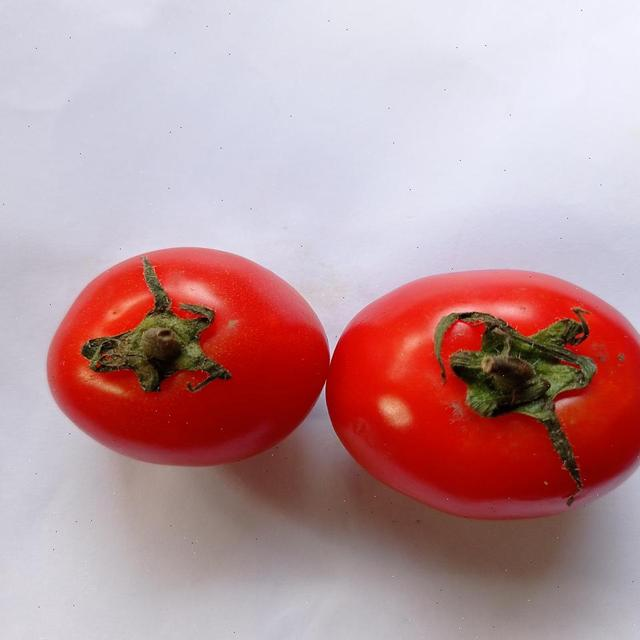Healthy Fruit: (122, 156, 320, 266)
